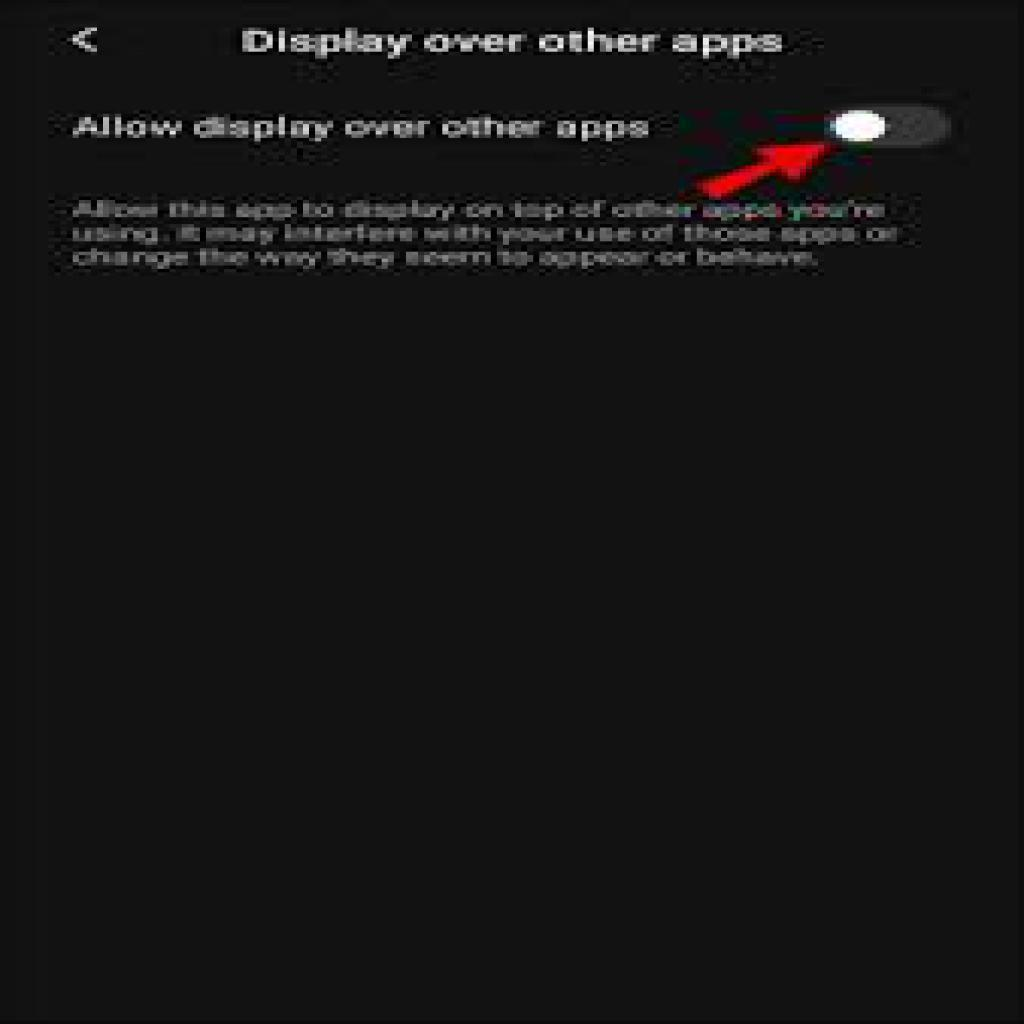icon: (68, 27, 100, 56)
label: (67, 110, 653, 145), (241, 28, 788, 59)
switch: (825, 106, 953, 152)
